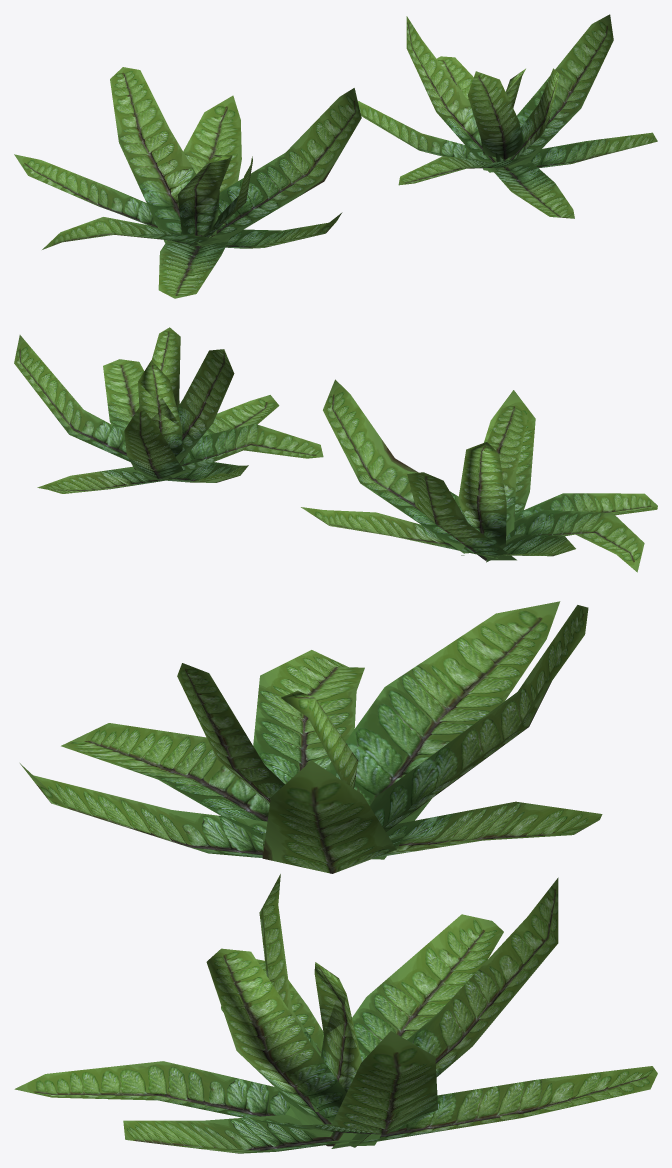
The model's file is maidenhair spleenwort_m.FBX.
3 renders of one model, top to bottom at view 1: azimuth 30°, elevation 25°; view 2: azimuth 150°, elevation 25°; view 3: azimuth 270°, elevation 25°, orthographic. The views are drawn at different scales.
Parts seen in each view (by area): view 1: maidenhair spleenwort, maidenhair spleenwort001; view 2: maidenhair spleenwort, maidenhair spleenwort001; view 3: maidenhair spleenwort, maidenhair spleenwort001.
Boxes of the visible parts, bbox=[...] form: maidenhair spleenwort: bbox=[14, 67, 361, 298]; maidenhair spleenwort001: bbox=[358, 14, 657, 218]; maidenhair spleenwort: bbox=[301, 379, 657, 572]; maidenhair spleenwort001: bbox=[14, 327, 323, 493]; maidenhair spleenwort: bbox=[20, 601, 602, 873]; maidenhair spleenwort001: bbox=[14, 874, 657, 1153].
Size of the model in its own units: 110 by 24.53 by 57.12.
